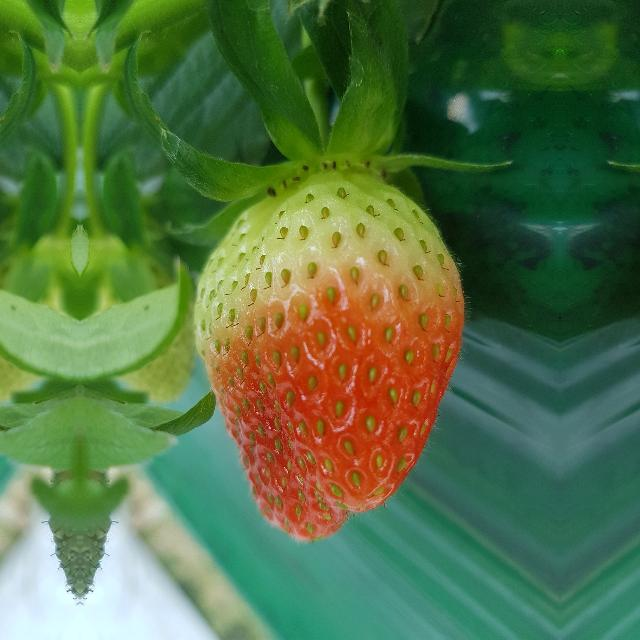Health_75: (191, 170, 467, 544)
